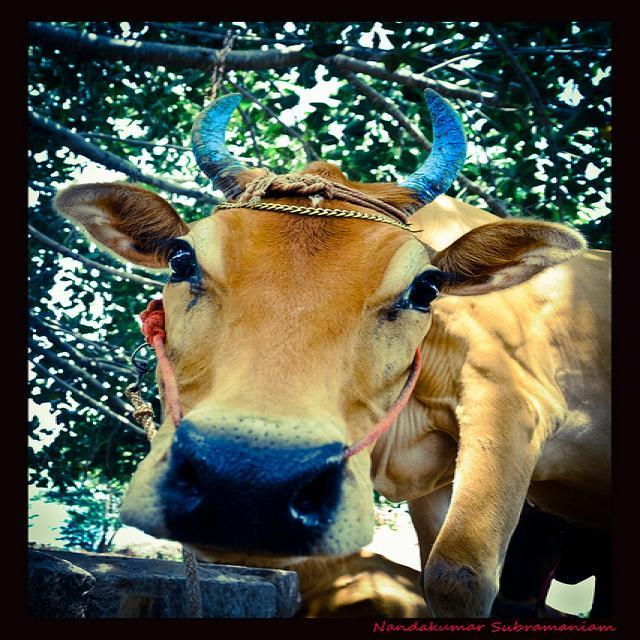cow: (57, 85, 613, 625)
